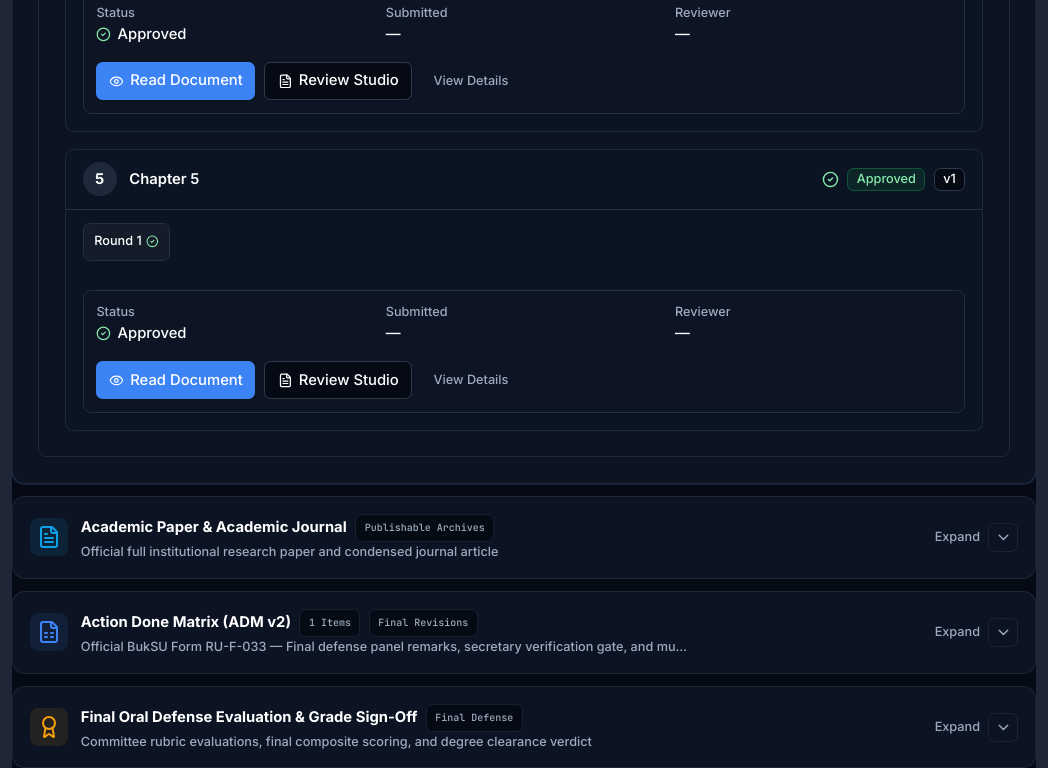
Capstone3CollapsibleSections Component Suite › toggles Publications section and renders Academic Paper and Academic Journal cards
(page scrolled)
Click the button with test id "toggle-publications-section" at (49, 537), box [13, 497, 1035, 578]
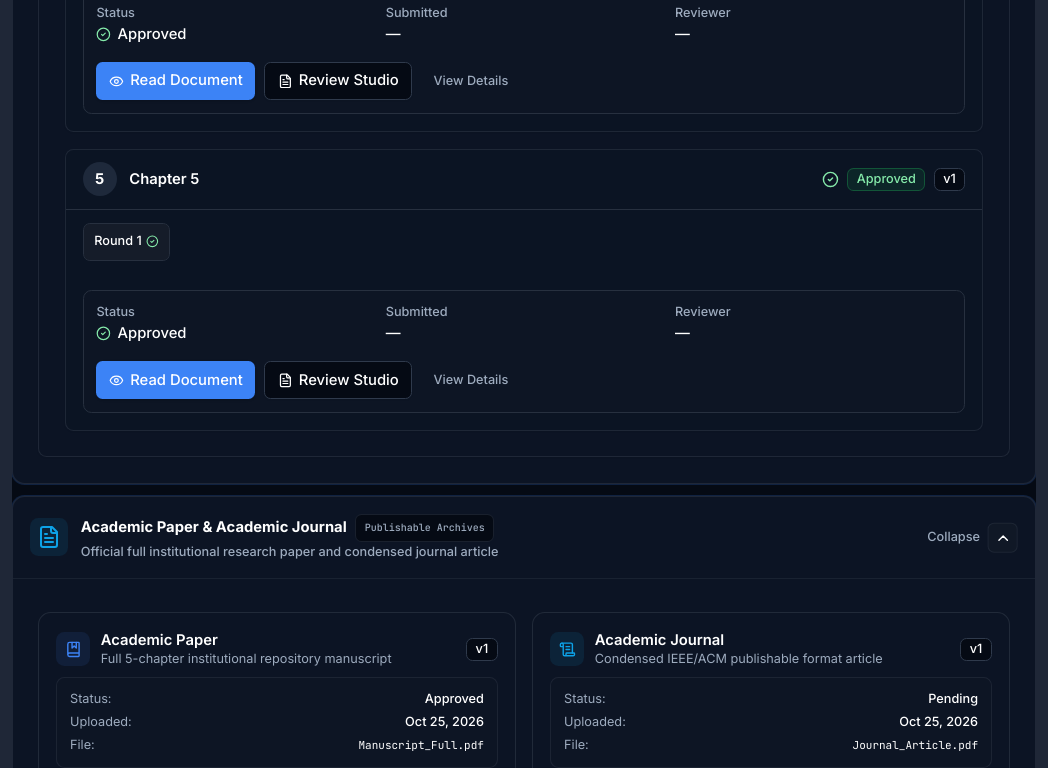
Expected: the text "Academic Paper" is shown, [81, 518, 347, 536]
Expected: the text "Manuscript_Full.pdf" is shown, [358, 737, 484, 754]
Expected: the text "Journal_Article.pdf" is shown, [853, 737, 978, 754]
